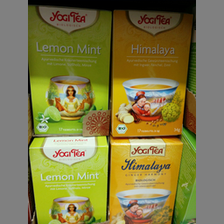tea: (28, 6, 111, 137), (111, 9, 192, 139), (29, 137, 109, 224), (108, 138, 184, 224)
